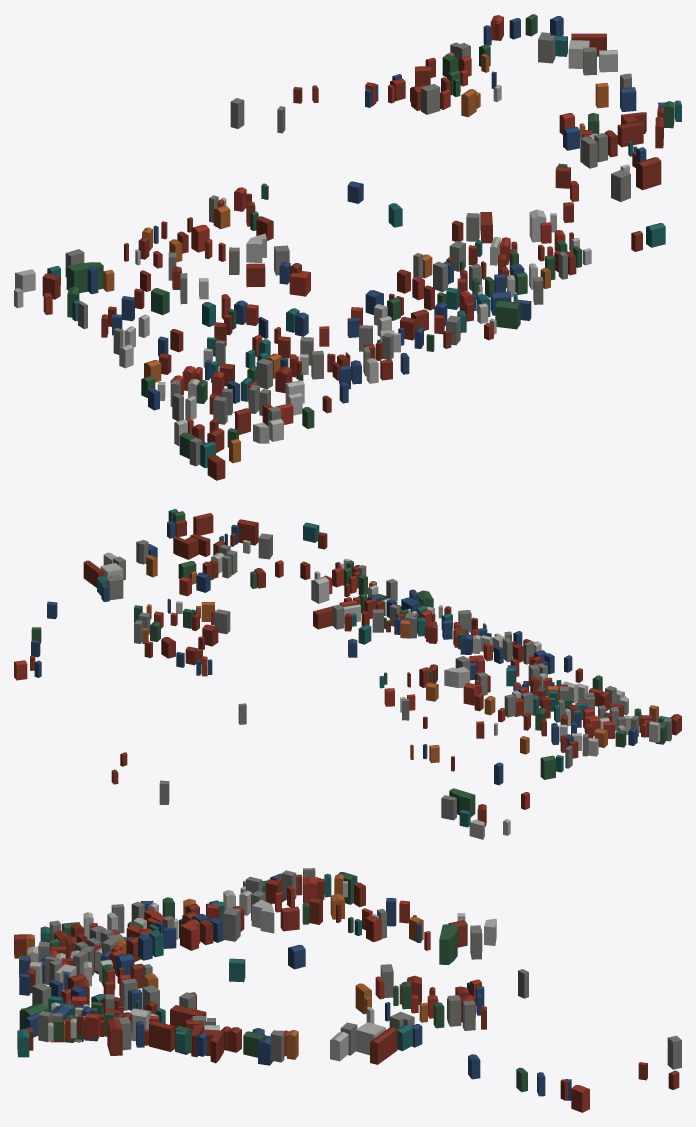
File: near-16-54722-29730.c059b5fc.glb
3 views of the same model, one above another, from view 1: azimuth 30°, elevation 25°; view 2: azimuth 150°, elevation 25°; view 3: azimuth 270°, elevation 25° (orthographic). The views are drawn at different scales.
Size of the model in its own units: 592 by 192 by 556.
